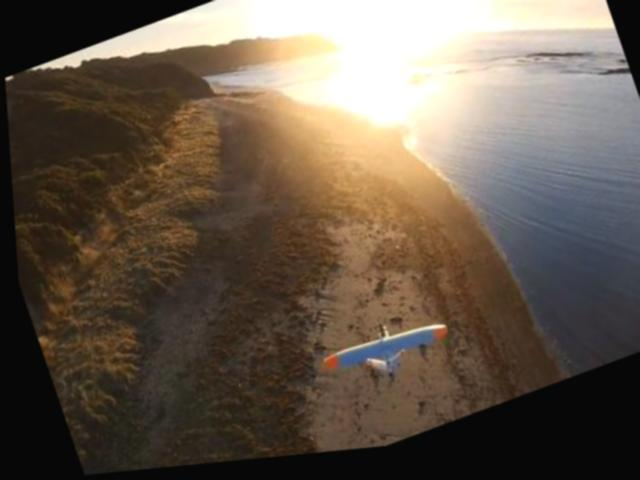uav: (310, 310, 452, 402)
